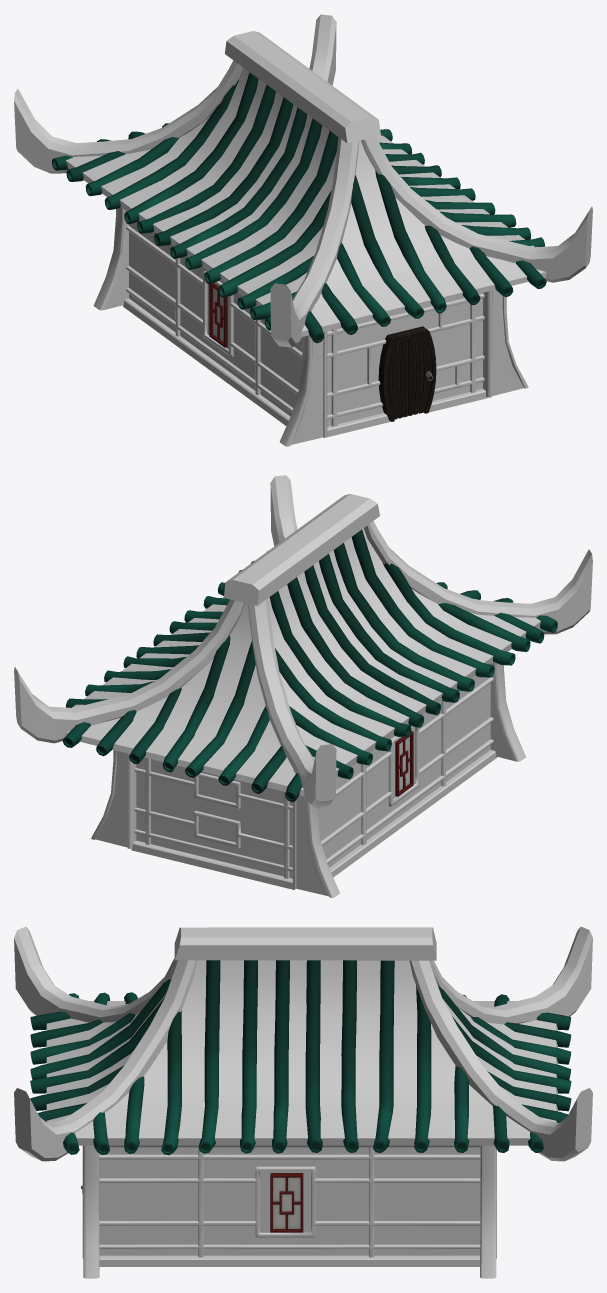
Rendered from Building07.fbx.
3 views of the same model, one above another, from view 1: azimuth 30°, elevation 25°; view 2: azimuth 150°, elevation 25°; view 3: azimuth 270°, elevation 25° (orthographic). The views are drawn at different scales.
Visible parts, largest first — view 1: Building07; view 2: Building07; view 3: Building07.
Boxes of the visible parts, x1,y1,x2,y2 form: Building07: [14, 14, 592, 446]; Building07: [14, 475, 592, 897]; Building07: [14, 926, 592, 1278].
Bounding box in the file's own units: 808 × 639 × 1178.
